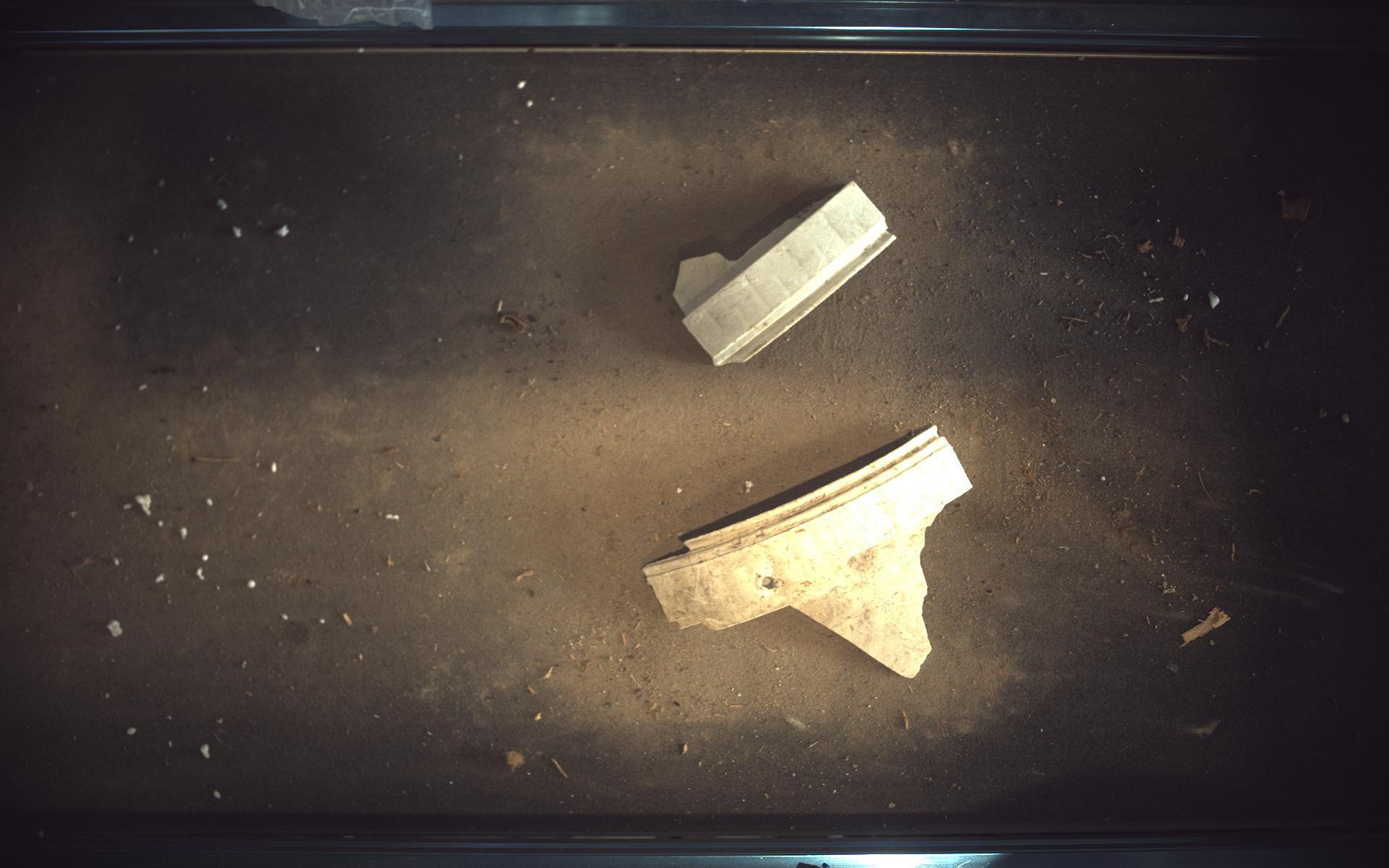plastic: (645, 426, 974, 679), (675, 181, 897, 365)
